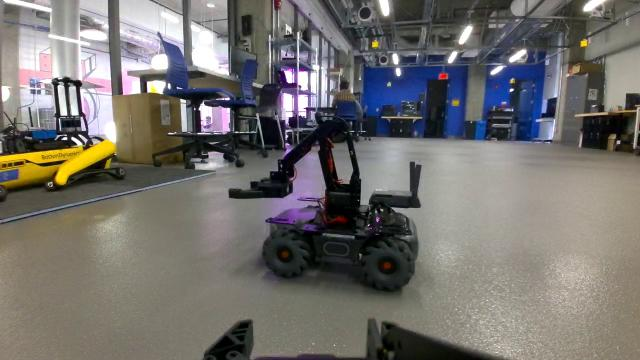robot: (224, 113, 428, 296)
